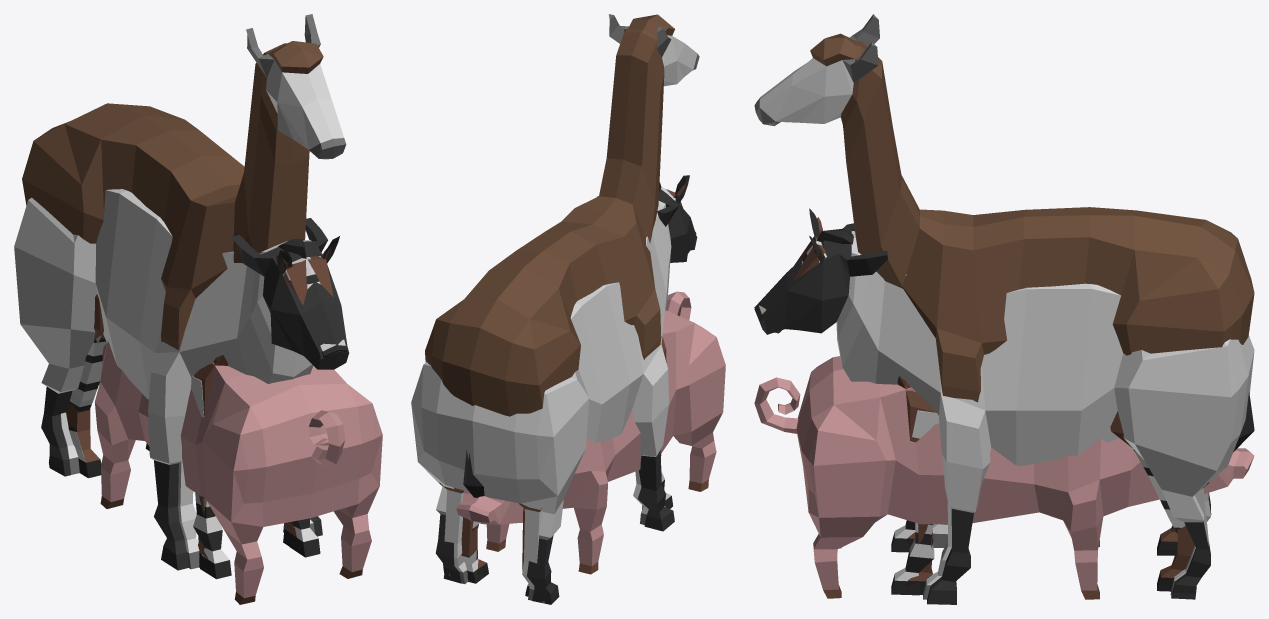
Rendered from zwierzeta_karuzeli.glb.
The picture shows the model from 3 angles, left to right: view 1: azimuth 30°, elevation 25°; view 2: azimuth 150°, elevation 25°; view 3: azimuth 270°, elevation 25°; orthographic projection. The views are drawn at different scales.
Visible parts, largest first — view 1: zwierze_Sheep, zwierze_Llama, zwierze_Pig, zwierze_Zebra, zwierze_Horse; view 2: zwierze_Llama, zwierze_Sheep, zwierze_Pig, zwierze_Horse, zwierze_Zebra; view 3: zwierze_Sheep, zwierze_Llama, zwierze_Pig, zwierze_Zebra, zwierze_Horse.
Boxes of the visible parts, left/top/right/bottom form: zwierze_Sheep: left=14, top=189, right=349, bottom=570; zwierze_Llama: left=22, top=14, right=346, bottom=569; zwierze_Pig: left=95, top=340, right=382, bottom=604; zwierze_Zebra: left=68, top=236, right=347, bottom=579; zwierze_Horse: left=66, top=240, right=347, bottom=567; zwierze_Llama: left=425, top=14, right=699, bottom=603; zwierze_Sheep: left=411, top=189, right=697, bottom=604; zwierze_Pig: left=456, top=291, right=725, bottom=574; zwierze_Horse: left=461, top=185, right=685, bottom=595; zwierze_Zebra: left=461, top=175, right=696, bottom=596; zwierze_Sheep: left=754, top=223, right=1254, bottom=604; zwierze_Llama: left=754, top=14, right=1254, bottom=599; zwierze_Pig: left=754, top=356, right=1254, bottom=599; zwierze_Zebra: left=754, top=208, right=1254, bottom=595; zwierze_Horse: left=755, top=217, right=1254, bottom=594.
Size of the model in its own units: 0.3947 by 1.25 by 1.05.
